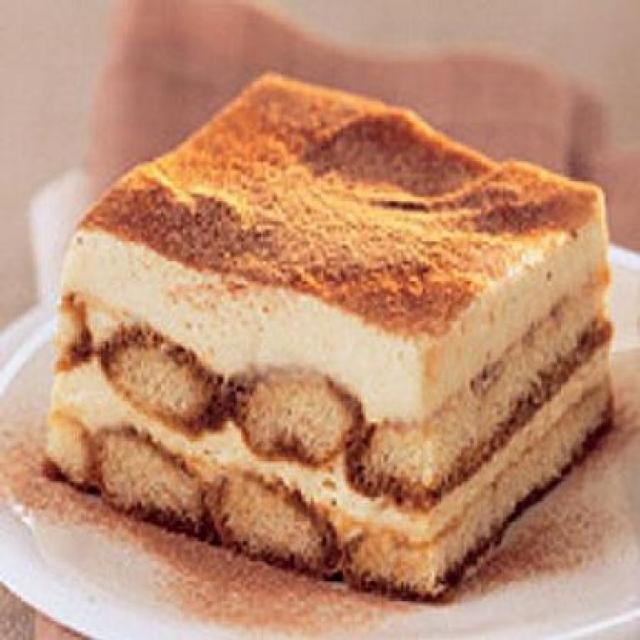Tiramisu: (63, 62, 625, 596)
